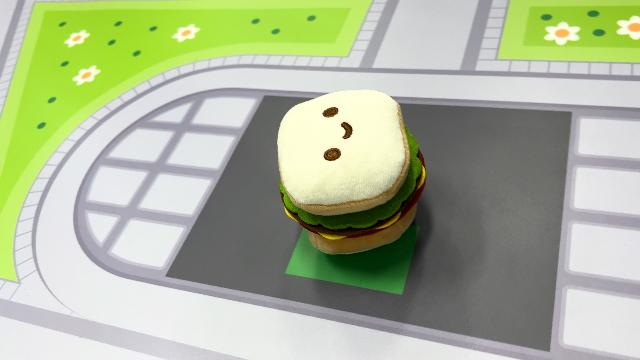sandwich: (274, 86, 428, 256)
